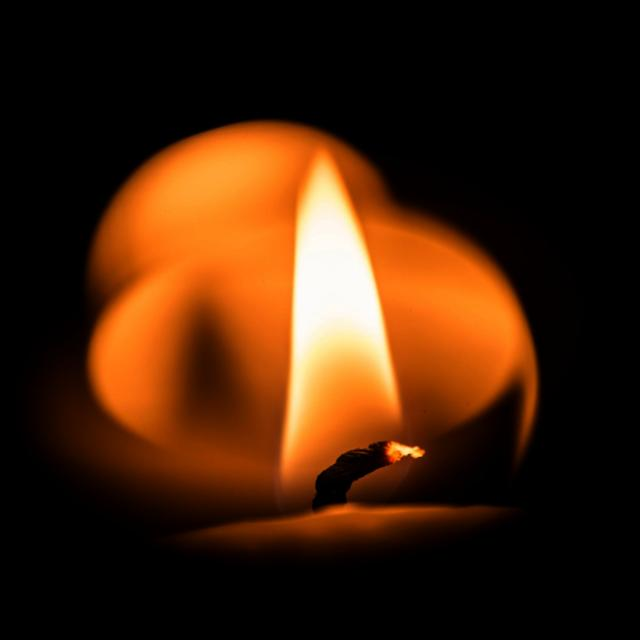Fire_Save: (6, 90, 561, 594)
